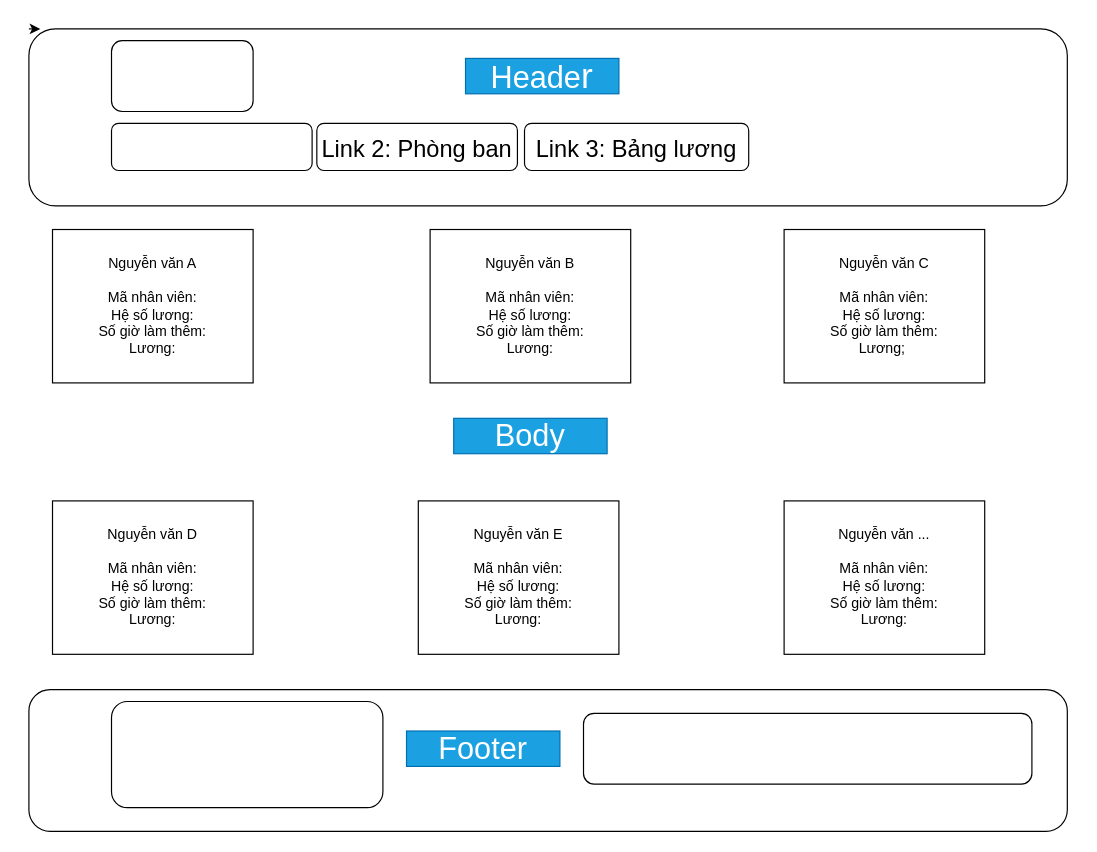
Image size: 1097x852. Some labels were removed from this diagram. The centre of each missing label's shape, as x and y in pixels:
"icon google, icon facebook, icon youtube... của công ty" goes at point (807, 748).
"Link 1: Nhân viên" goes at point (211, 146).
"Logo" goes at point (181, 76).
"Thông tin Công ty" goes at point (246, 754).
